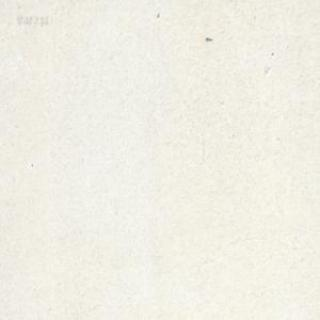Nailtrack_idkeyframe: (204, 35, 212, 40)
